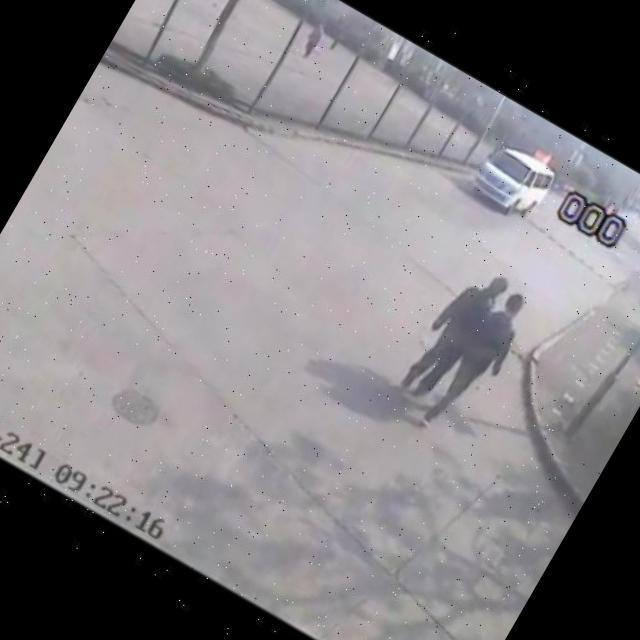person: (392, 254, 516, 416), (422, 284, 542, 448)
